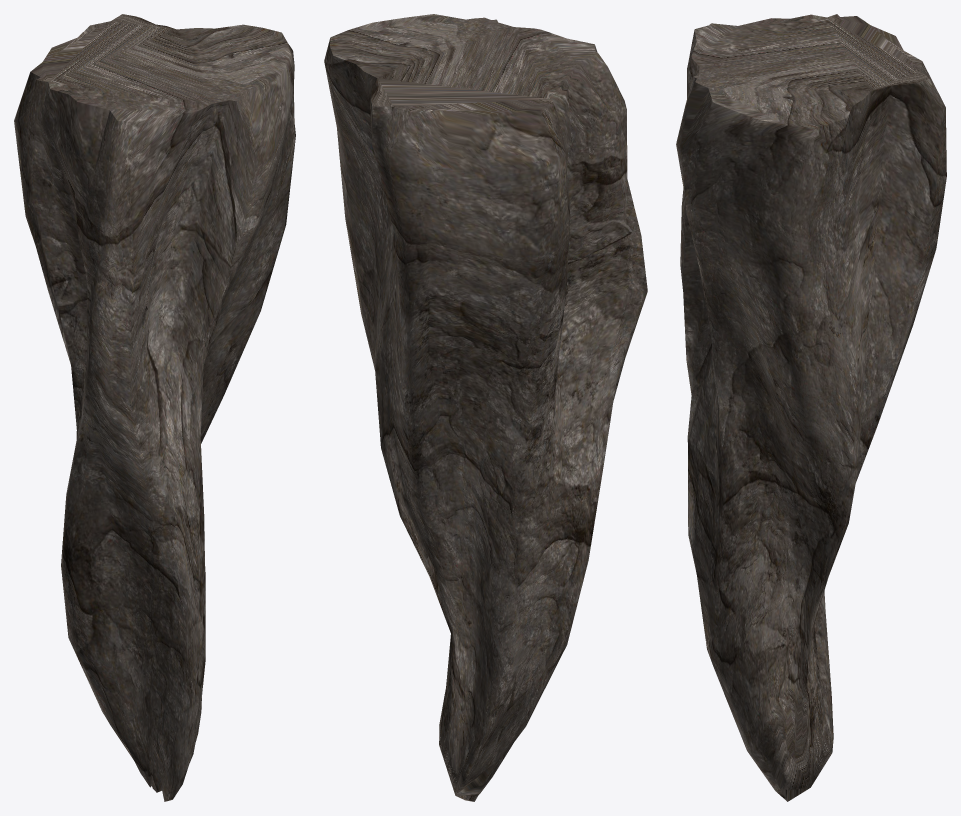
File: ESTALACTITA PEQUEÑA FRAGMENTOS.FBX
The picture shows the model from 3 angles, left to right: view 1: azimuth 30°, elevation 25°; view 2: azimuth 150°, elevation 25°; view 3: azimuth 270°, elevation 25°; orthographic projection.
Visible parts, largest first — view 1: ESTALACTITA 001_frag_006, ESTALACTITA 001_frag_003, ESTALACTITA 001_frag_005, ESTALACTITA 001_frag_002, ESTALACTITA 001_frag_004, ESTALACTITA 001_frag_001; view 2: ESTALACTITA 001_frag_006, ESTALACTITA 001_frag_004, ESTALACTITA 001_frag_002, ESTALACTITA 001_frag_001, ESTALACTITA 001_frag_005; view 3: ESTALACTITA 001_frag_006, ESTALACTITA 001_frag_005, ESTALACTITA 001_frag_003, ESTALACTITA 001_frag_004, ESTALACTITA 001_frag_002.
Part boxes in pixels (box(x1,y1,x2,y2)): ESTALACTITA 001_frag_006: box(14, 14, 288, 405); ESTALACTITA 001_frag_003: box(100, 404, 215, 772); ESTALACTITA 001_frag_005: box(177, 44, 295, 413); ESTALACTITA 001_frag_002: box(61, 368, 178, 646); ESTALACTITA 001_frag_004: box(68, 397, 222, 801); ESTALACTITA 001_frag_001: box(74, 331, 134, 459); ESTALACTITA 001_frag_006: box(324, 24, 643, 424); ESTALACTITA 001_frag_004: box(378, 417, 568, 801); ESTALACTITA 001_frag_002: box(461, 343, 610, 639); ESTALACTITA 001_frag_001: box(584, 253, 647, 420); ESTALACTITA 001_frag_005: box(333, 14, 504, 317); ESTALACTITA 001_frag_006: box(681, 14, 946, 449); ESTALACTITA 001_frag_005: box(676, 71, 807, 417); ESTALACTITA 001_frag_003: box(687, 373, 795, 754); ESTALACTITA 001_frag_004: box(750, 399, 886, 801); ESTALACTITA 001_frag_002: box(684, 296, 714, 394).
Size of the model in its own units: 50.58 by 137 by 45.99.
1 material, 1 textured.
